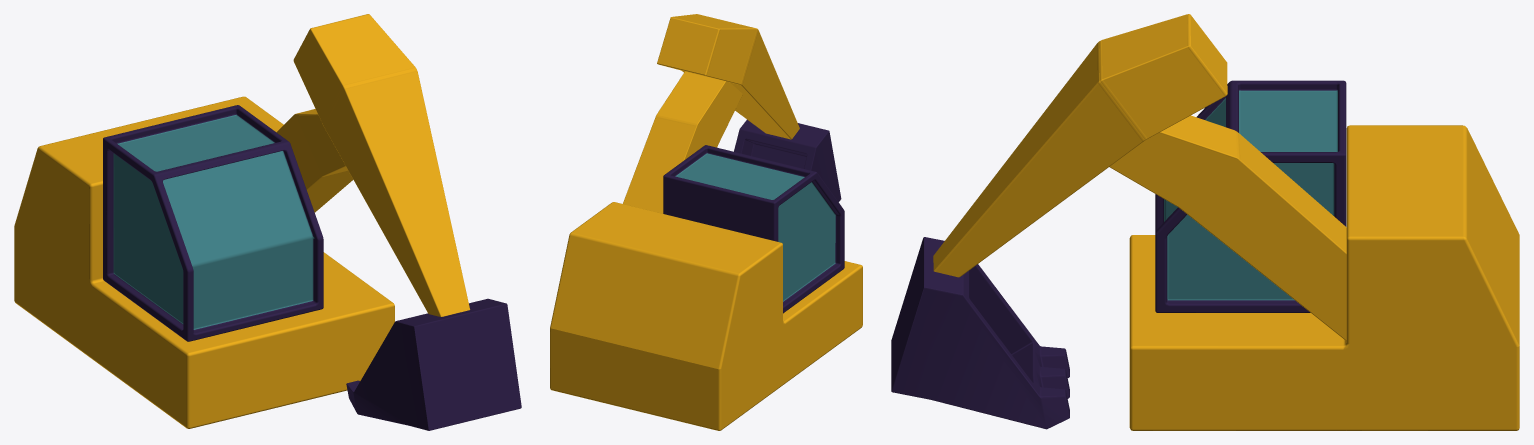
File: Main Excavator.fbx
3 views of the same model, side by side, from view 1: azimuth 30°, elevation 25°; view 2: azimuth 150°, elevation 25°; view 3: azimuth 270°, elevation 25° (orthographic). The views are drawn at different scales.
Visible parts, largest first — view 1: Cube.067; view 2: Cube.067; view 3: Cube.067.
Part boxes in pixels (x1,y1,x2,y2): Cube.067: [14, 14, 521, 430]; Cube.067: [550, 14, 862, 430]; Cube.067: [891, 14, 1519, 430].
Bounding box in the file's own units: 310 × 450 × 664.
